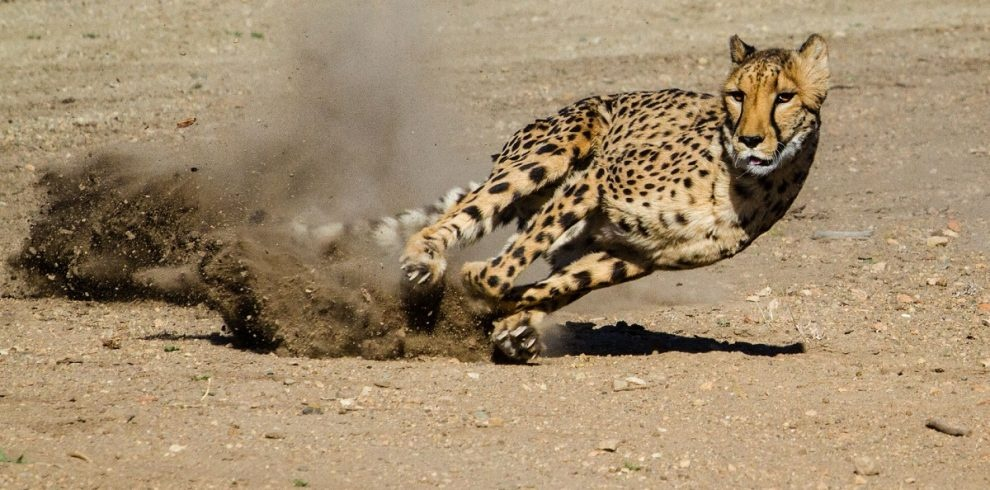leopard: (267, 27, 839, 366)
